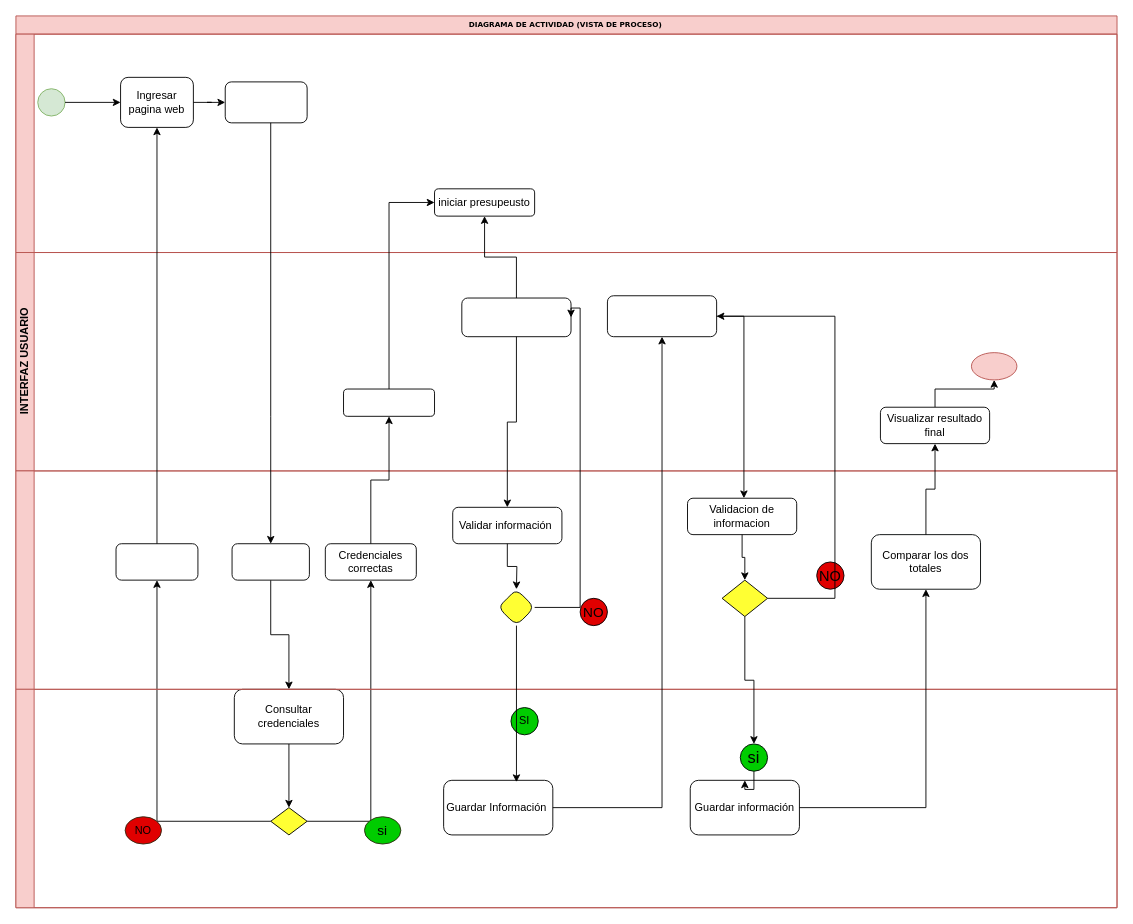
This 1133x924 diagram has some shape labels left out. Here are the shapes that lost their labels. From the top down, the box of each, then its label:
(224, 81, 307, 123): Ingresar credenciales e iniciar seccion
(15, 33, 1117, 253): USUARIO
(461, 297, 571, 337): Ingresar todos los ingresos economicos
(607, 295, 717, 337): Ingrese todos los gastos economicos
(343, 388, 435, 416): Login del usuario
(115, 543, 198, 580): Credenciales incorrectas
(231, 543, 309, 580): Validar credenciales
(15, 470, 1117, 689): CONTROLADOR
(15, 688, 1117, 908): DATABASE
